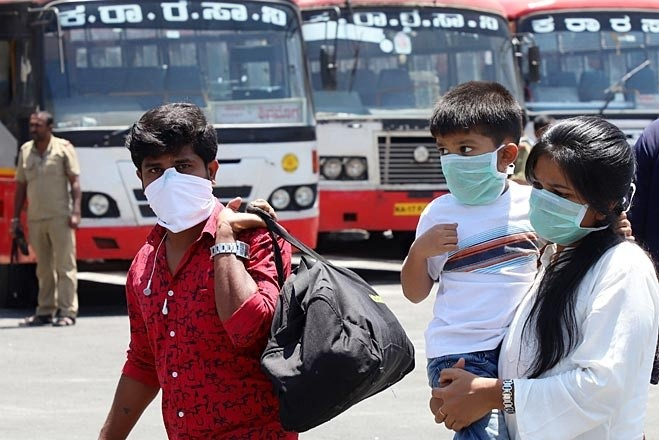face_no_mask: (25, 111, 51, 140)
face_with_mask: (518, 137, 623, 259), (432, 104, 523, 214), (132, 111, 218, 226)
